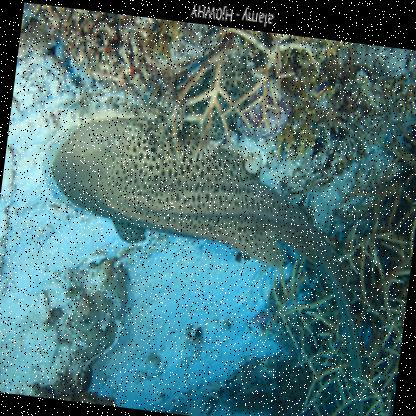zebra_shark: (22, 93, 400, 414)
